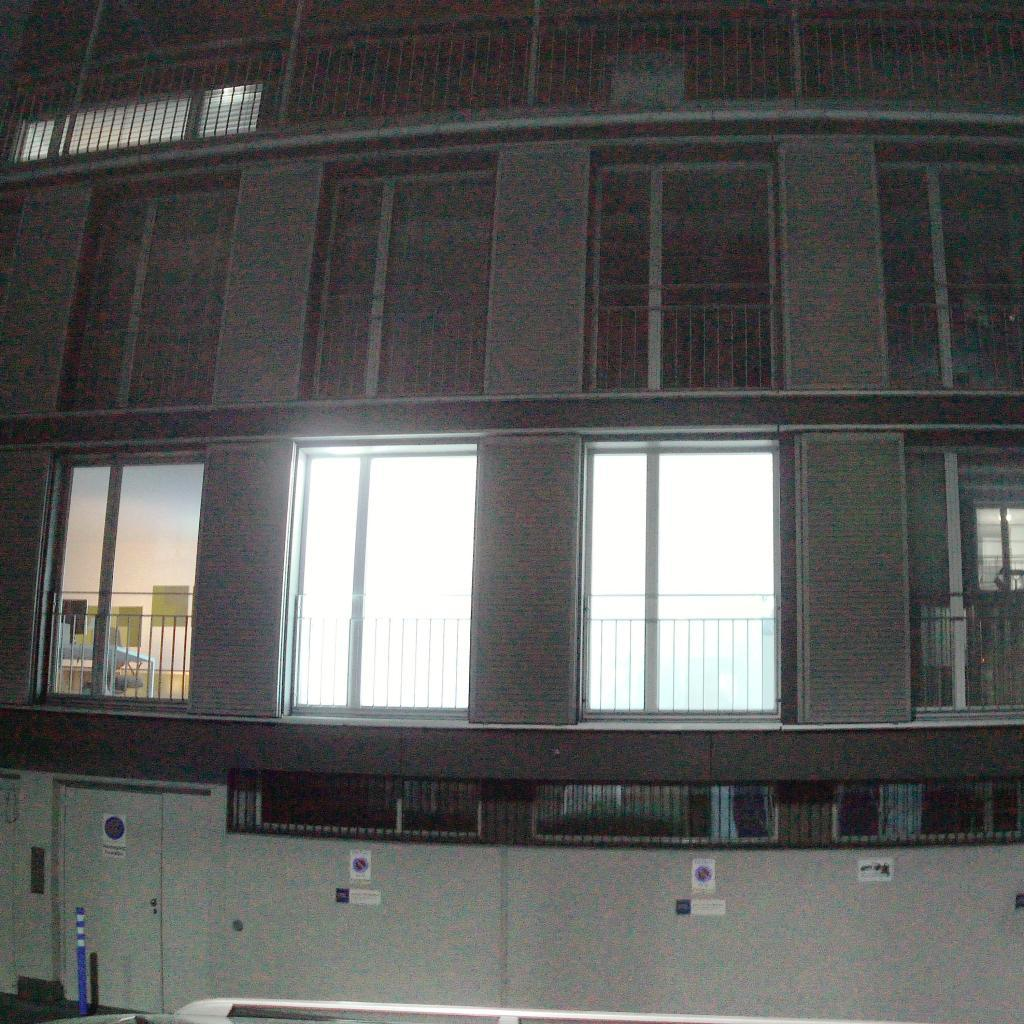balcony-fence: (582, 594, 778, 716), (284, 592, 472, 719), (588, 280, 777, 393), (310, 291, 490, 400), (45, 589, 196, 703), (64, 310, 221, 412), (883, 282, 1024, 392), (908, 589, 1024, 711)
car: (33, 996, 937, 1024)
facade: (0, 113, 1024, 783)
fence: (0, 763, 1024, 1024)
window: (581, 440, 783, 721), (280, 441, 478, 721), (588, 158, 781, 393), (310, 168, 493, 400), (45, 455, 204, 706), (66, 188, 236, 412), (875, 161, 1024, 389), (903, 445, 1024, 710)
